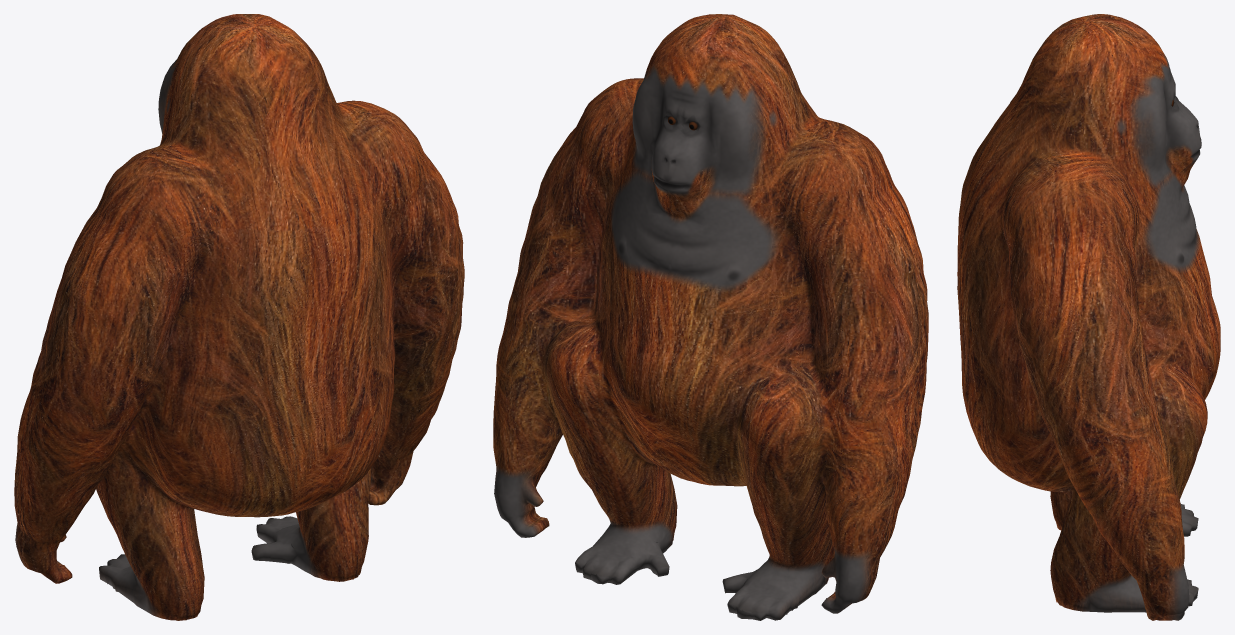
File: orangutan-kalimantan.glb
3 renders of one model, left to right at view 1: azimuth 30°, elevation 25°; view 2: azimuth 150°, elevation 25°; view 3: azimuth 270°, elevation 25°, orthographic. The views are drawn at different scales.
Parts seen in each view (by area): view 1: Orangutan_Kalimantan; view 2: Orangutan_Kalimantan; view 3: Orangutan_Kalimantan.
Boxes of the visible parts, box(x1,y1,x2,y2) form: Orangutan_Kalimantan: box(14, 14, 464, 620); Orangutan_Kalimantan: box(493, 14, 928, 620); Orangutan_Kalimantan: box(957, 14, 1220, 620).
Size of the model in its own units: 0.9547 by 1.23 by 0.5398.
2 materials, 2 textured.
